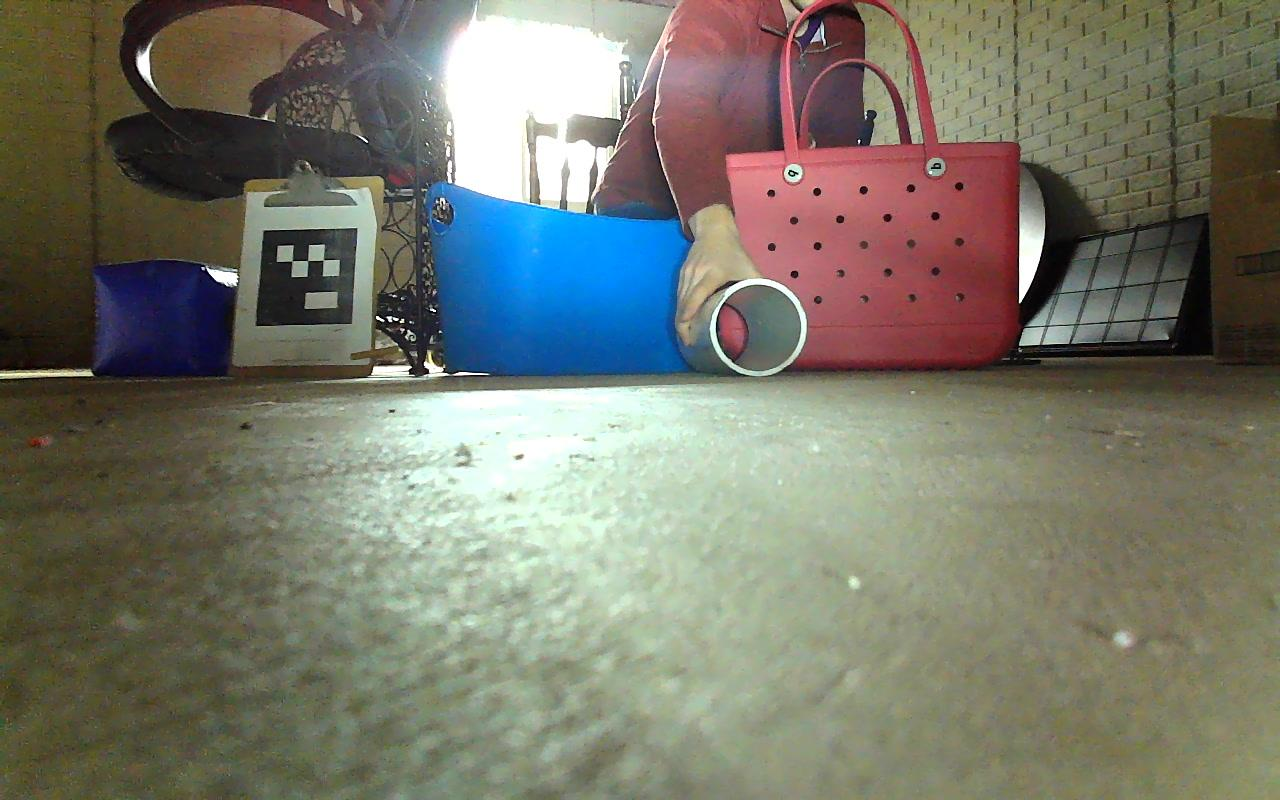coral: (682, 277, 807, 376)
